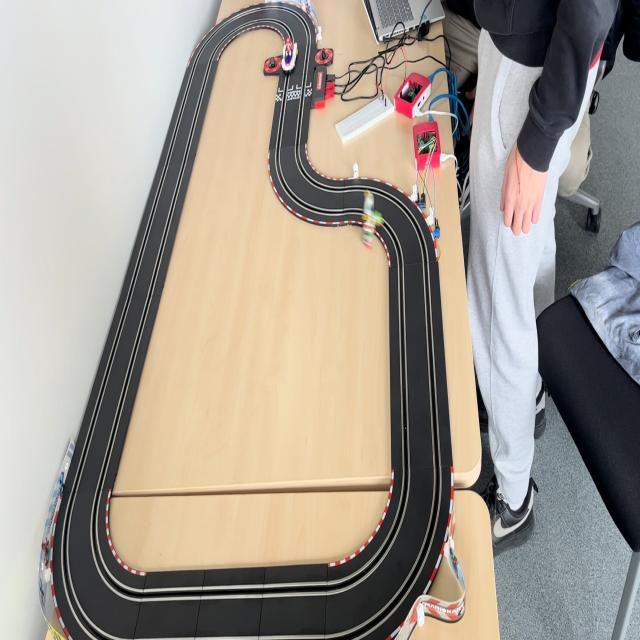mario: (280, 37, 299, 74)
yoshi: (361, 194, 386, 227)
